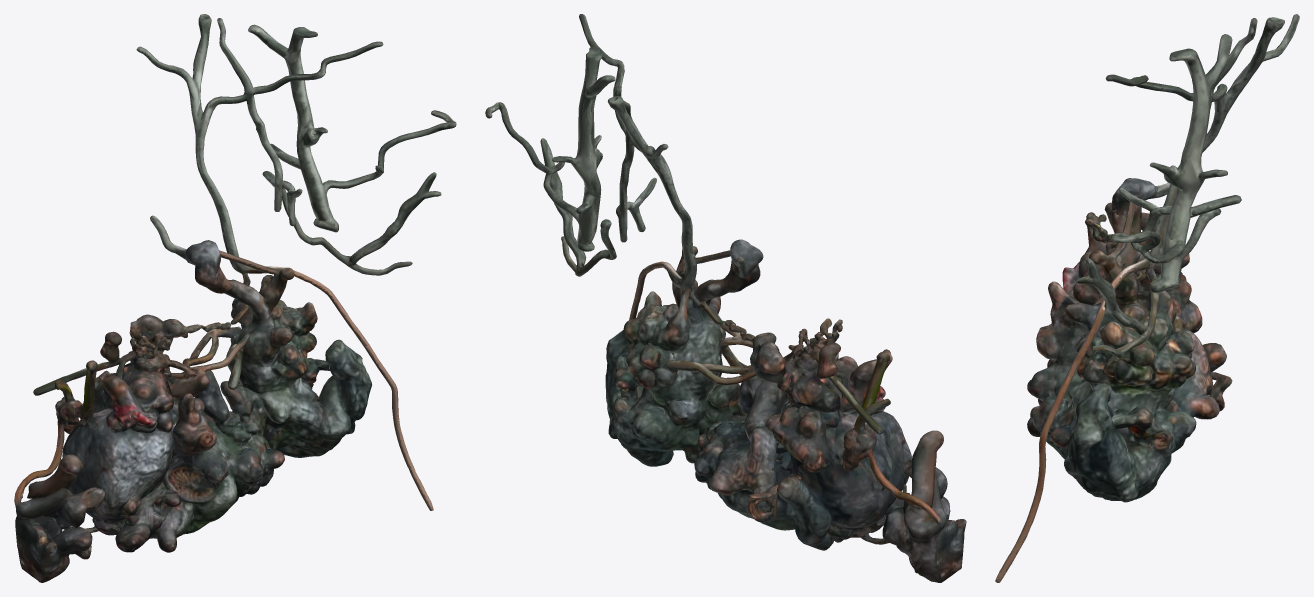
Rendered from bark-flake-v11.glb.
3 renders of one model, left to right at view 1: azimuth 30°, elevation 25°; view 2: azimuth 150°, elevation 25°; view 3: azimuth 270°, elevation 25°, orthographic. The views are drawn at different scales.
Visible parts, largest first — view 1: geometry_0; view 2: geometry_0; view 3: geometry_0.
Part boxes in pixels (x1,y1,x2,y2): geometry_0: [14, 14, 456, 582]; geometry_0: [485, 14, 966, 582]; geometry_0: [995, 14, 1299, 582].
Size of the model in its own units: 0.5514 by 0.55 by 0.29.
Materials: 1 (1 with a texture image).
